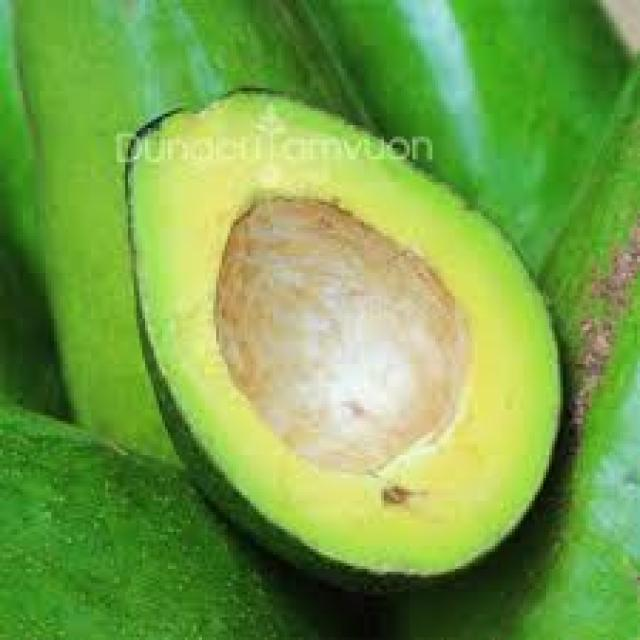Bo: (100, 81, 576, 606), (1, 370, 392, 637)
